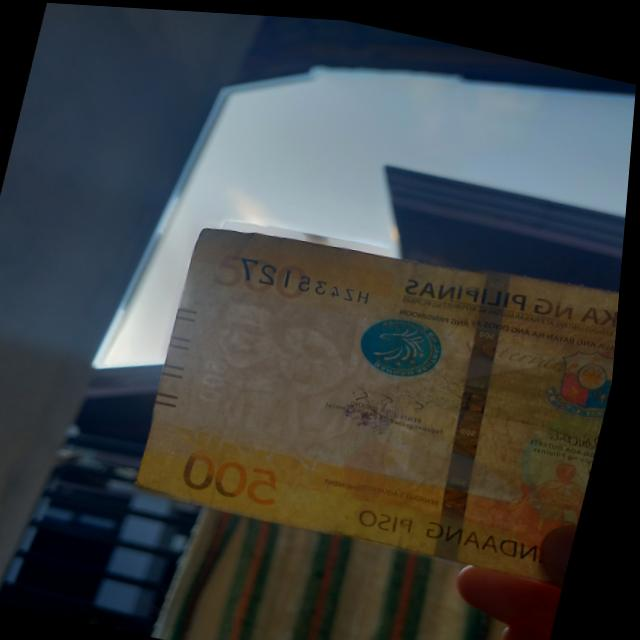security_thread: (428, 260, 534, 559)
see_through_mark: (189, 412, 357, 485)
value_watermark: (193, 343, 252, 412)
watermark: (181, 273, 395, 464)
